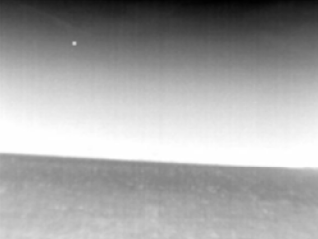Target: (73, 42, 77, 46)
